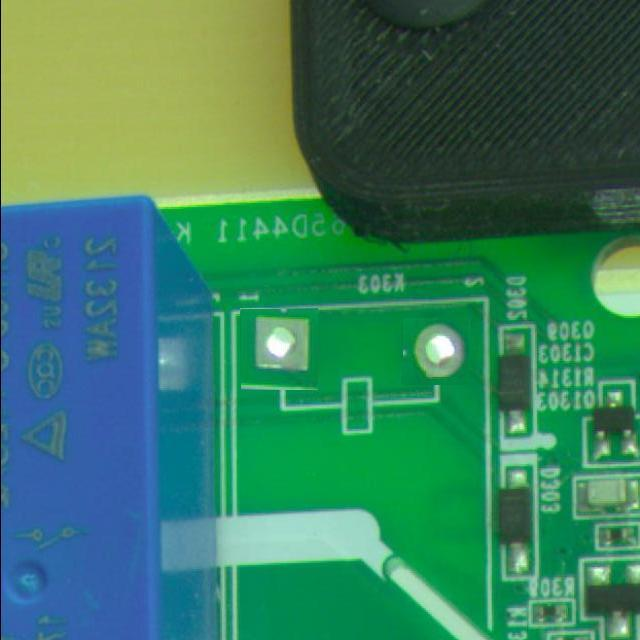lack_of_part: (240, 308, 318, 391), (402, 318, 470, 384)
